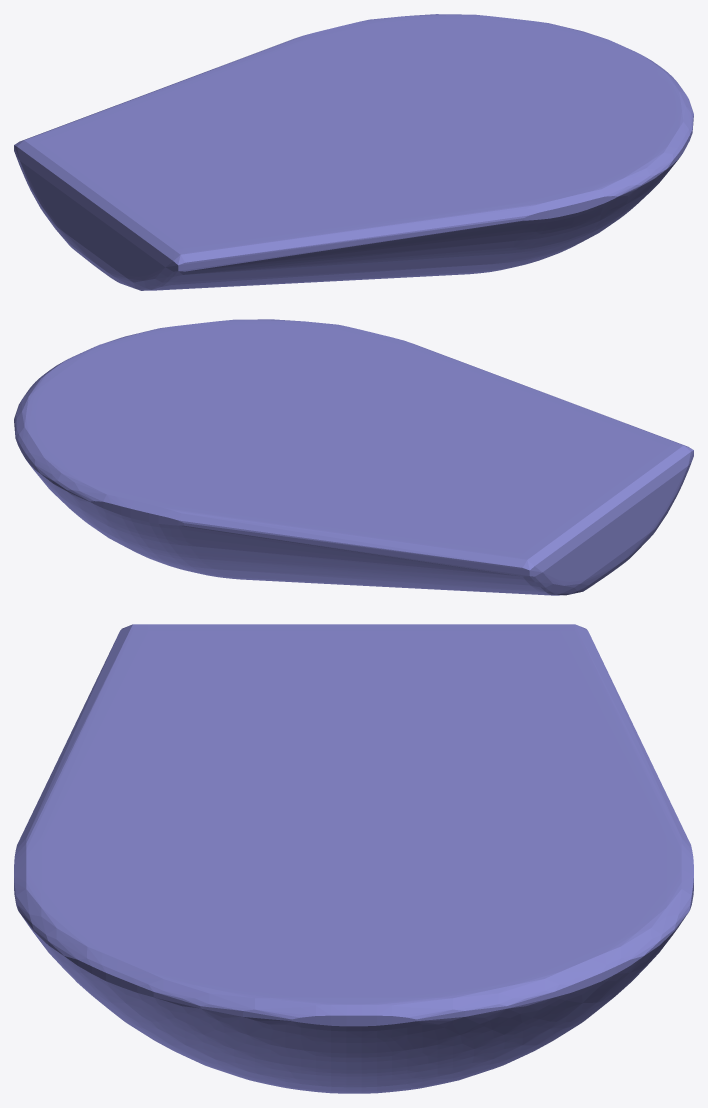
Rendered from left_elbow_link_part_12.obj.
3 views of the same model, one above another, from view 1: azimuth 30°, elevation 25°; view 2: azimuth 150°, elevation 25°; view 3: azimuth 270°, elevation 25° (orthographic). The views are drawn at different scales.
Bounding box in the file's own units: 0.0851 × 0.0195 × 0.0625.
